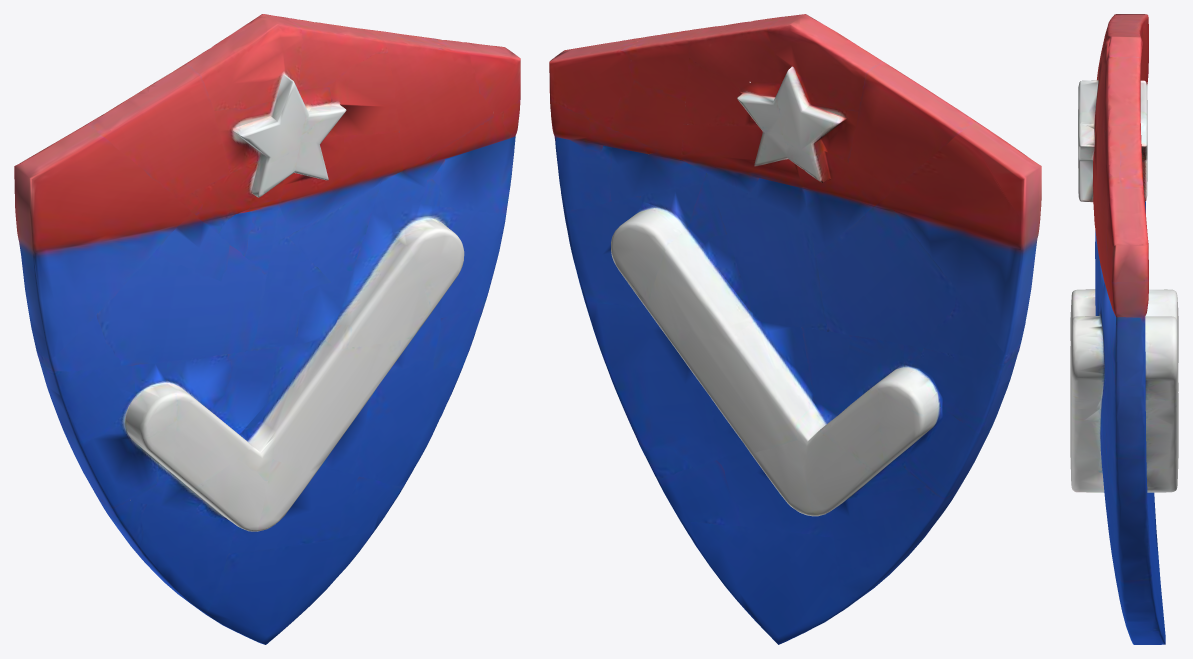
File: svc-fda.glb
3 renders of one model, left to right at view 1: azimuth 30°, elevation 25°; view 2: azimuth 150°, elevation 25°; view 3: azimuth 270°, elevation 25°, orthographic. The views are drawn at different scales.
Visible parts, largest first — view 1: tripo_node_98ac8941-d00b-4d93-81a3-47b590fe9244; view 2: tripo_node_98ac8941-d00b-4d93-81a3-47b590fe9244; view 3: tripo_node_98ac8941-d00b-4d93-81a3-47b590fe9244.
Boxes of the visible parts, box(x1,y1,x2,y2) form: tripo_node_98ac8941-d00b-4d93-81a3-47b590fe9244: box(14, 14, 520, 644); tripo_node_98ac8941-d00b-4d93-81a3-47b590fe9244: box(549, 14, 1041, 644); tripo_node_98ac8941-d00b-4d93-81a3-47b590fe9244: box(1070, 14, 1178, 644).
Size of the model in its own units: 0.7989 by 0.9781 by 0.1579.
Materials: 1 (1 with a texture image).
